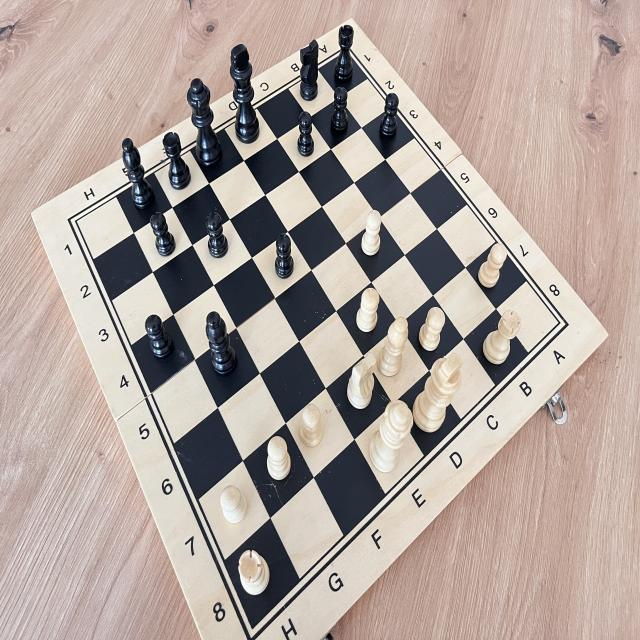black-bishop: (112, 132, 160, 216), (196, 301, 241, 384)
black-king: (224, 34, 266, 148)
black-knight: (294, 35, 324, 107)
black-pawn: (263, 221, 306, 286), (139, 307, 180, 370), (370, 90, 406, 152), (147, 208, 183, 268), (202, 203, 235, 264), (289, 108, 321, 164), (327, 81, 353, 138)
black-queen: (182, 67, 224, 174)
black-rook: (159, 126, 195, 192), (328, 20, 359, 94)
white-bishop: (370, 309, 414, 386)
white-king: (407, 348, 468, 450)
white-knight: (338, 348, 383, 415)
white-pawn: (470, 235, 510, 298), (214, 472, 254, 532), (411, 299, 450, 357), (295, 396, 329, 454), (351, 281, 384, 339), (356, 206, 387, 267), (264, 431, 295, 486)
white-queen: (358, 397, 418, 488)
white-rook: (473, 303, 526, 373), (233, 538, 278, 608)
